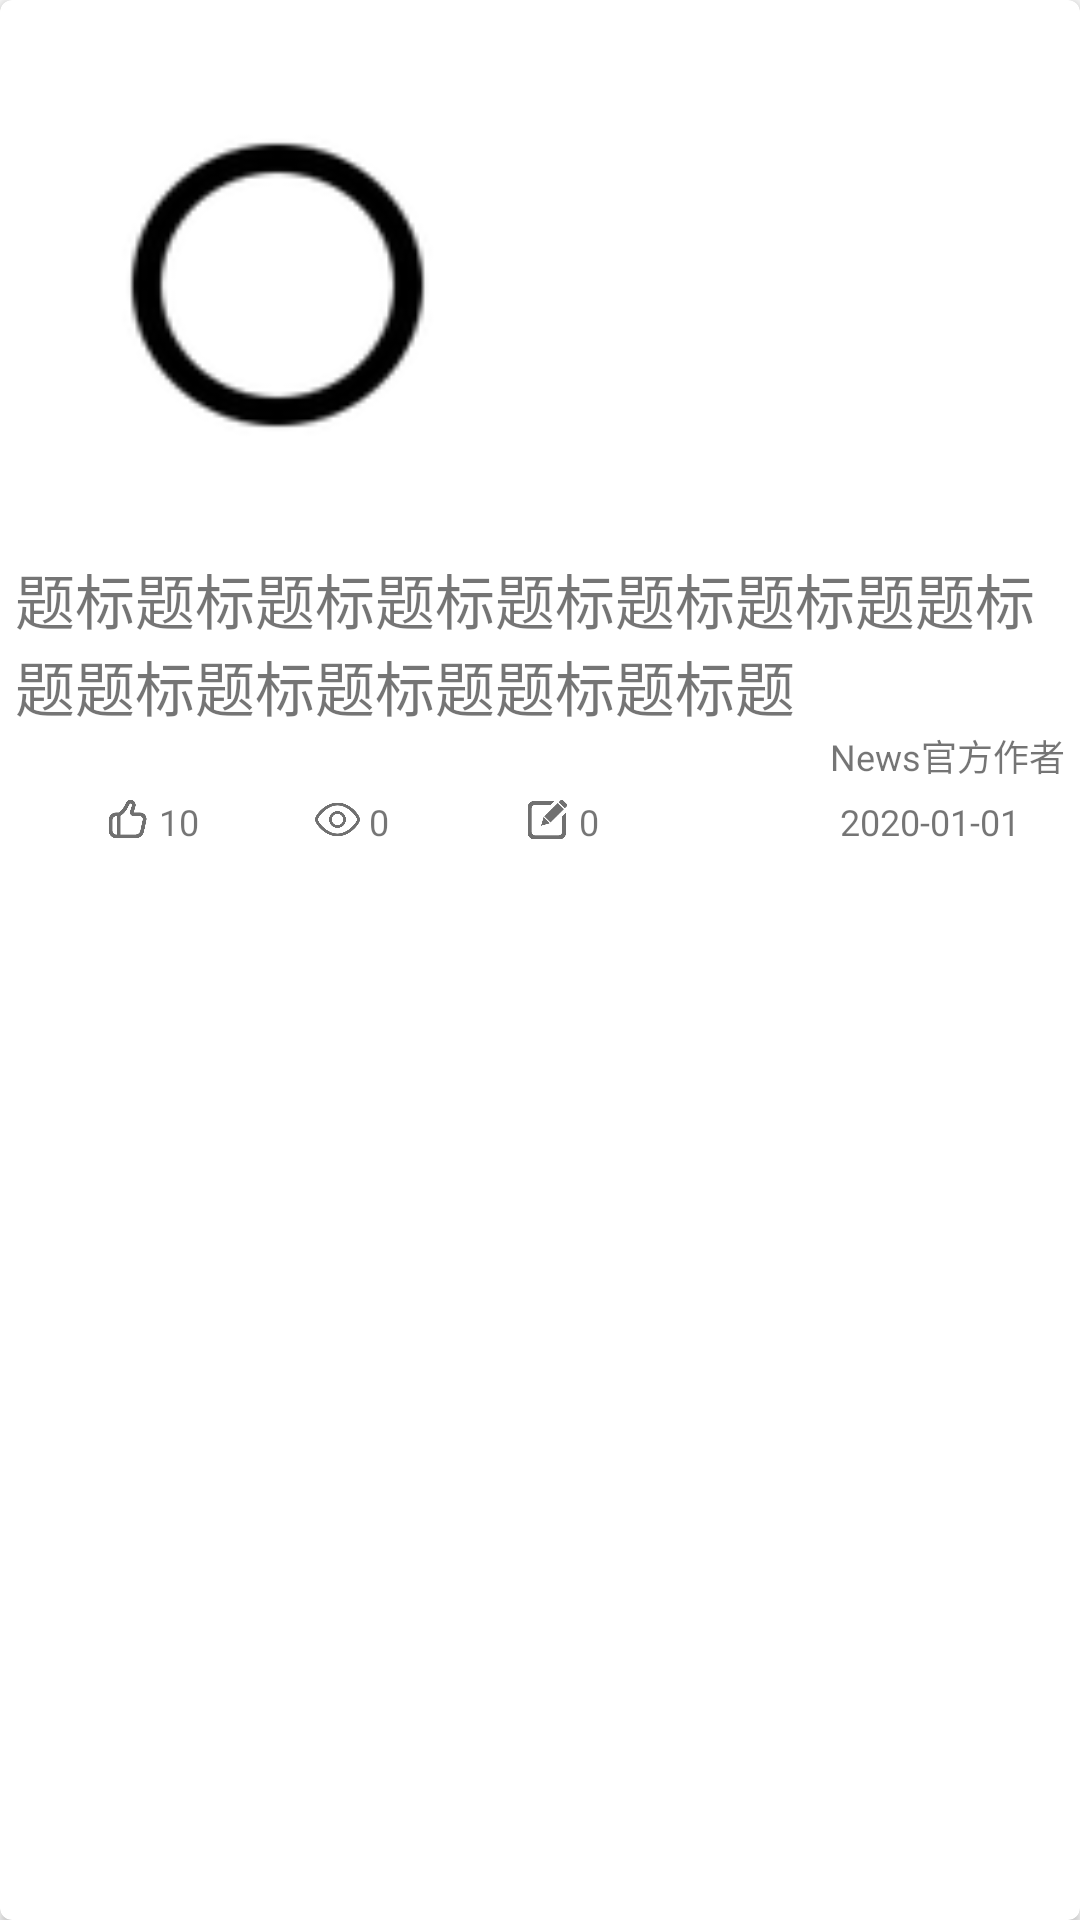

Point at icon controls on the screen. Image size 1080px×1920px, points as (x=x, y=y).
home read: (x=337, y=819)
home review: (x=547, y=819)
